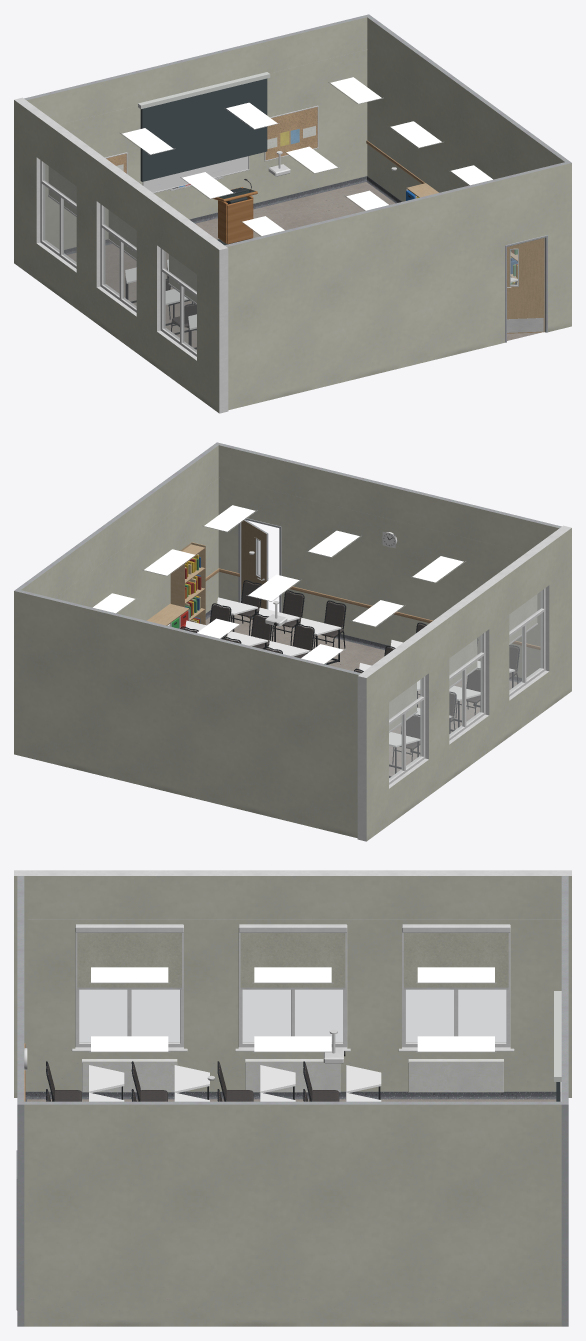
File: university.glb
3 renders of one model, top to bottom at view 1: azimuth 30°, elevation 25°; view 2: azimuth 150°, elevation 25°; view 3: azimuth 270°, elevation 25°, orthographic. The views are drawn at different scales.
Visible parts, largest first — view 1: classroom.002, classroom.003, Nara screen frame, classroom, classroom.001, NARA lectern oak, Nara projector body, Nara furniture laminate; view 2: classroom.002, classroom.003, classroom, Nara furniture upholstery, Nara furniture laminate, Nara furniture steel, classroom.001; view 3: classroom.002, classroom, Nara furniture laminate, classroom.003, Nara furniture upholstery, Nara projector body, Nara furniture steel.
Boxes of the visible parts, x1=… form: classroom.002: x1=14, y1=14, x2=568, y2=413; classroom.003: x1=225, y1=161, x2=571, y2=410; Nara screen frame: x1=140, y1=78, x2=267, y2=181; classroom: x1=120, y1=77, x2=492, y2=236; classroom.001: x1=507, y1=238, x2=544, y2=333; NARA lectern oak: x1=212, y1=187, x2=257, y2=244; Nara projector body: x1=138, y1=72, x2=270, y2=108; Nara furniture laminate: x1=125, y1=259, x2=517, y2=329; classroom.002: x1=14, y1=444, x2=571, y2=841; classroom.003: x1=147, y1=442, x2=561, y2=682; classroom: x1=93, y1=505, x2=465, y2=664; Nara furniture upholstery: x1=181, y1=581, x2=518, y2=749; Nara furniture laminate: x1=185, y1=597, x2=514, y2=747; Nara furniture steel: x1=180, y1=580, x2=519, y2=777; classroom.001: x1=241, y1=519, x2=268, y2=620; classroom.002: x1=14, y1=870, x2=571, y2=1326; classroom: x1=89, y1=967, x2=496, y2=1080; Nara furniture laminate: x1=89, y1=1065, x2=381, y2=1101; classroom.003: x1=16, y1=876, x2=27, y2=1326; Nara furniture upholstery: x1=47, y1=1063, x2=339, y2=1101; Nara projector body: x1=554, y1=991, x2=561, y2=1081; Nara furniture steel: x1=46, y1=1061, x2=380, y2=1101.
Size of the model in its own units: 8.15 by 3.6 by 8.2.
Materials: 15 (4 with a texture image).
